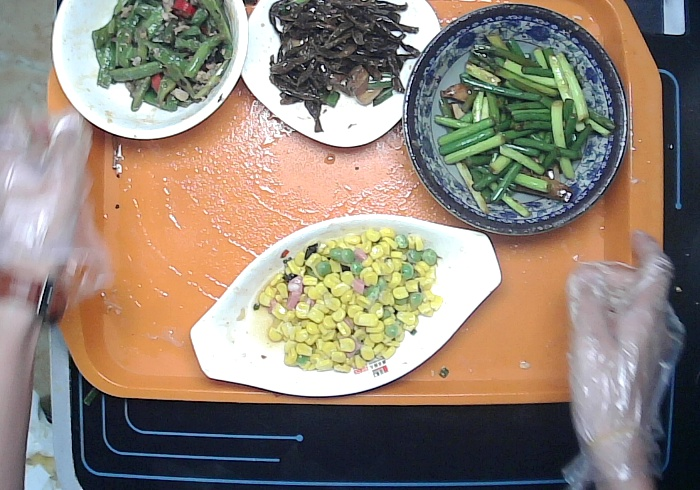ZNLD-Qing_Hua_Wan: (401, 1, 630, 237)
ZNLD-Si_Fang_Wan: (234, 1, 443, 148)
ZNLD-Tang_Wan: (51, 1, 247, 141)
ZNLD-Yu_Pan: (188, 213, 501, 402)
